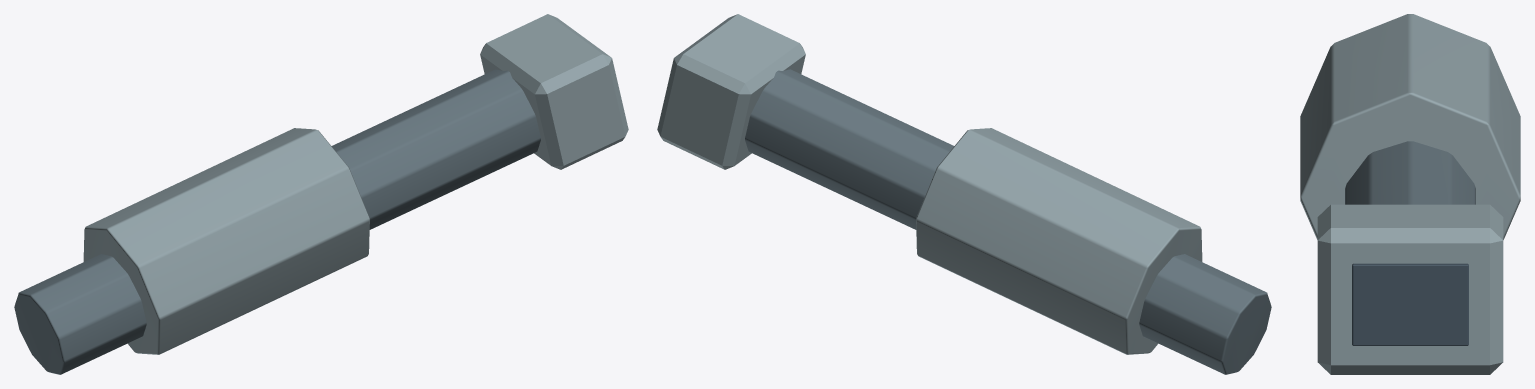
The model's file is SM_Cinderthrow_Weapon.fbx.
3 views of the same model, side by side, from view 1: azimuth 30°, elevation 25°; view 2: azimuth 150°, elevation 25°; view 3: azimuth 270°, elevation 25° (orthographic). The views are drawn at different scales.
Visible parts, largest first — view 1: SM_Cinderthrow_Weapon; view 2: SM_Cinderthrow_Weapon; view 3: SM_Cinderthrow_Weapon.
Part boxes in pixels (x1,y1,x2,y2): SM_Cinderthrow_Weapon: (14, 14, 628, 374); SM_Cinderthrow_Weapon: (657, 14, 1271, 374); SM_Cinderthrow_Weapon: (1300, 14, 1520, 374).
Size of the model in its own units: 42.62 by 9.78 by 15.05.
